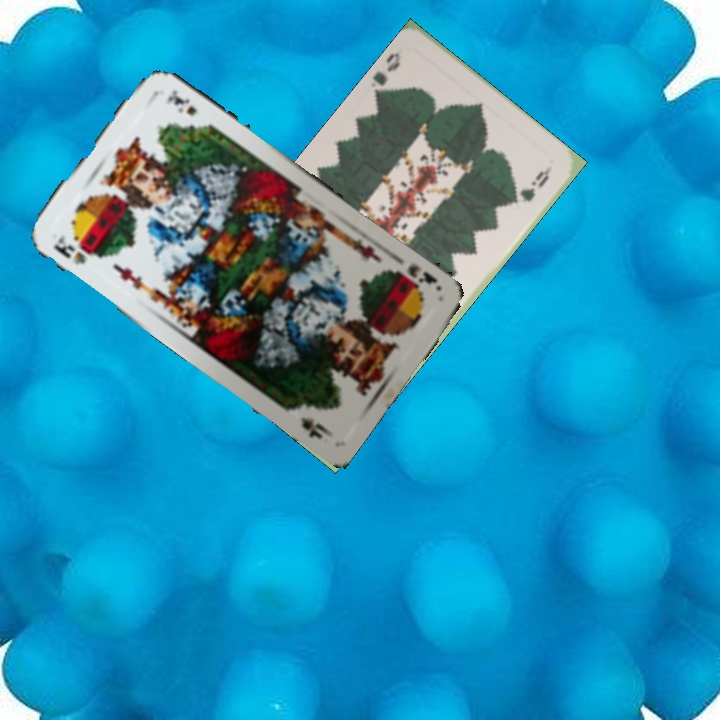G9: (369, 47, 403, 100)
SK: (49, 231, 89, 268), (403, 260, 440, 287)
